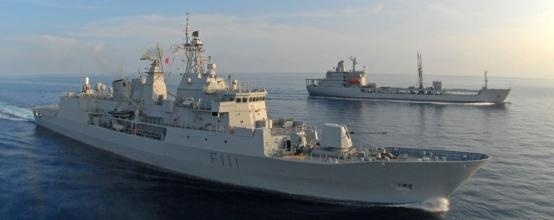warship: (29, 26, 493, 210), (291, 54, 513, 104)
